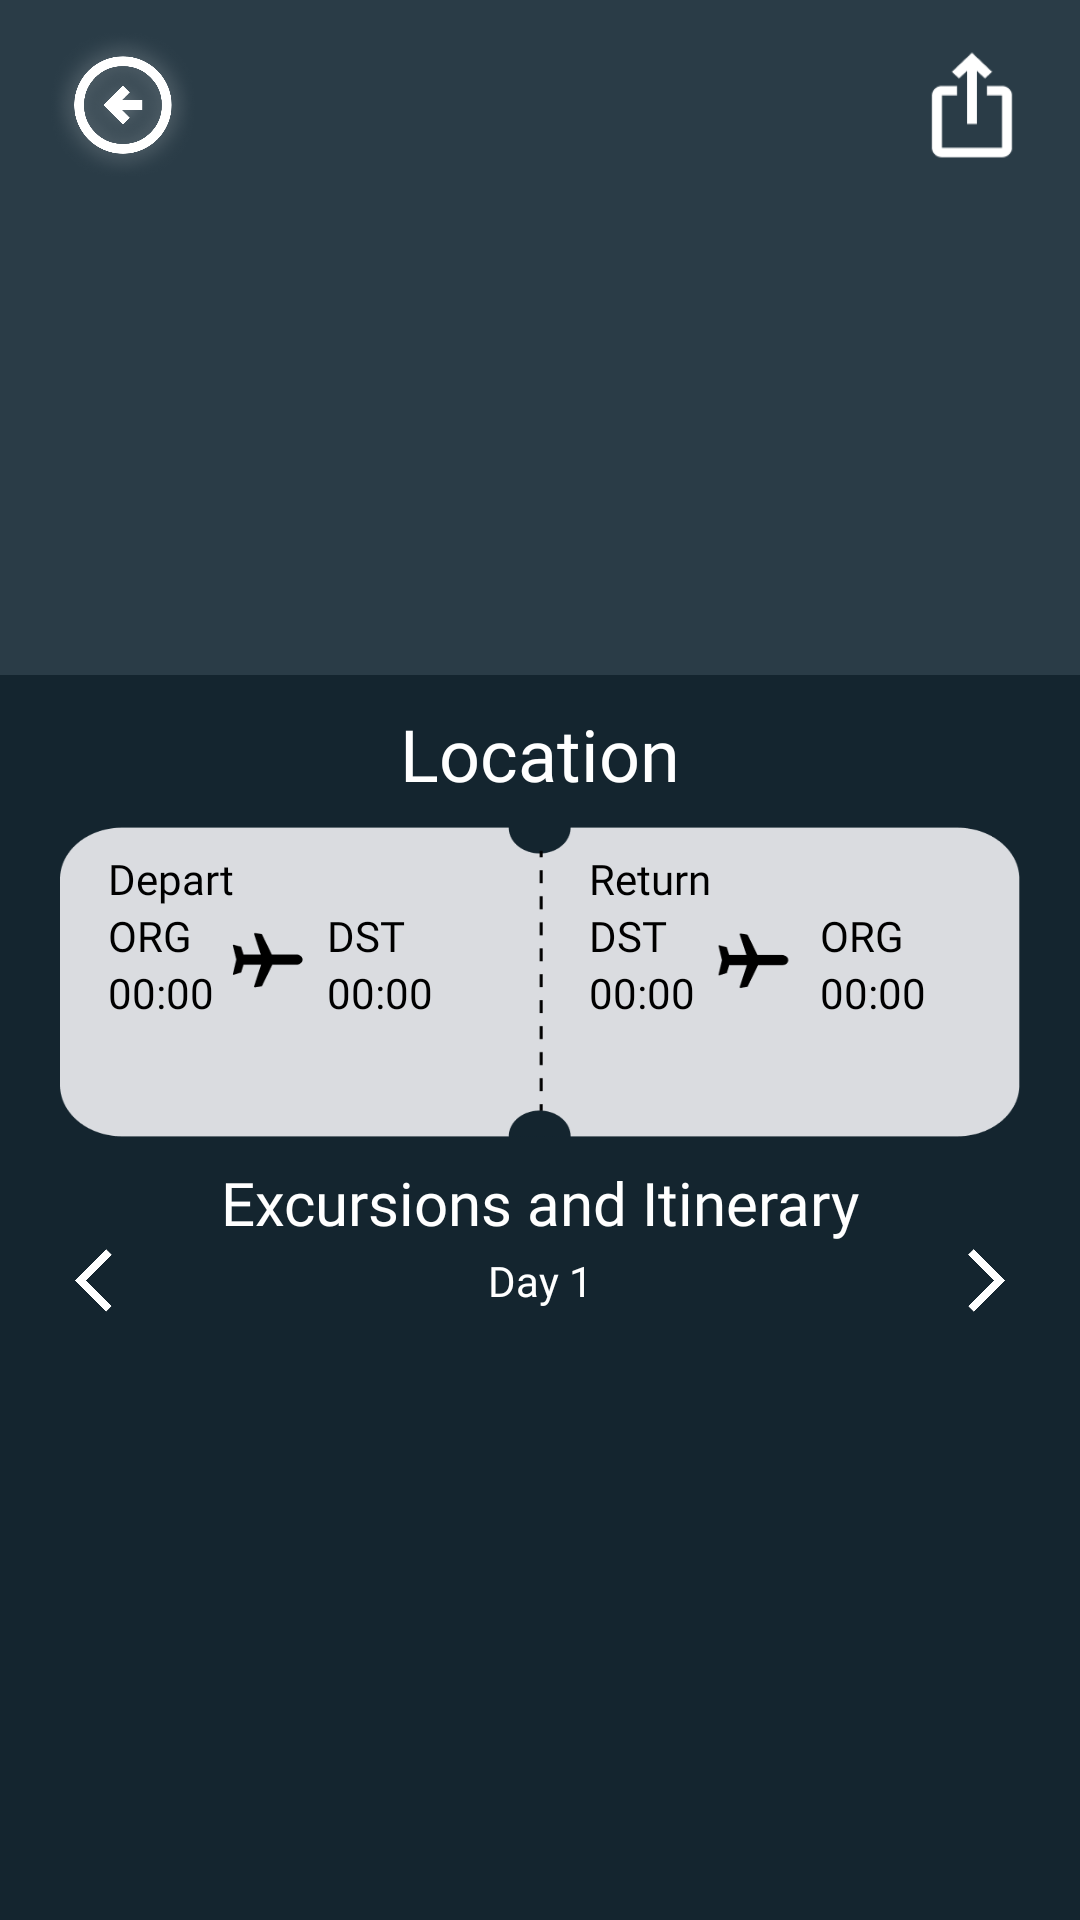

Icons on this 1080 x 1920 Android screen, each with the point to tap as [x,y]:
backarrow: [123,105]
export: [972,105]
pager arrow back: [93,1280]
pager arrow forward: [986,1280]
